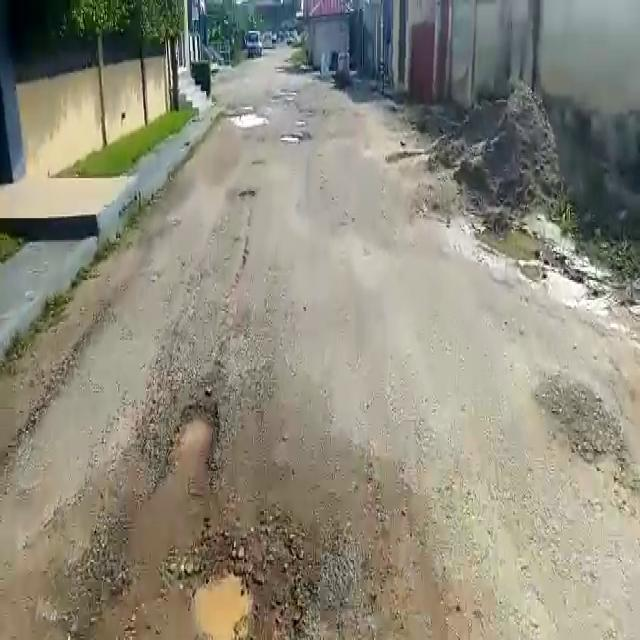Pothole: (160, 397, 222, 487), (191, 559, 256, 640), (224, 111, 270, 128)
